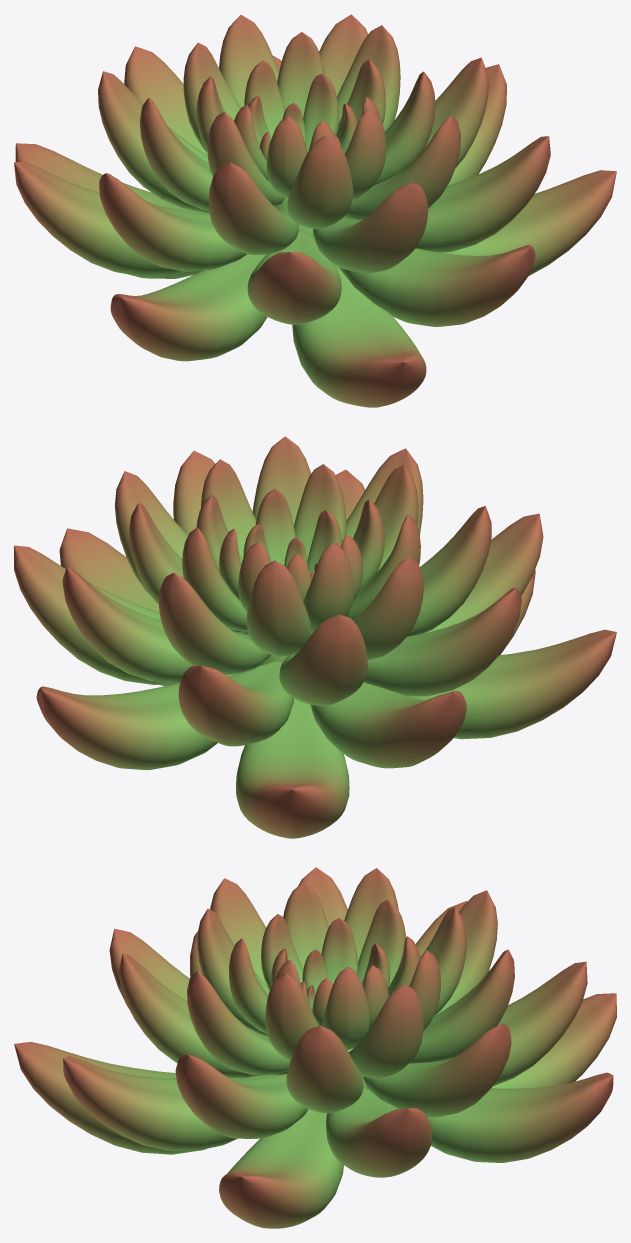
Rendered from stylized_succulent_plant.glb.
The picture shows the model from 3 angles, top to bottom: view 1: azimuth 30°, elevation 25°; view 2: azimuth 150°, elevation 25°; view 3: azimuth 270°, elevation 25°; orthographic projection. The views are drawn at different scales.
Visible parts, largest first — view 1: Succulent.003; view 2: Succulent.003; view 3: Succulent.003.
Part boxes in pixels (bbox=[...]): Succulent.003: bbox=[14, 14, 616, 407]; Succulent.003: bbox=[14, 436, 616, 838]; Succulent.003: bbox=[14, 867, 616, 1228].
Bounding box in the file's own units: 0.175 × 0.0792 × 0.1818.
1 material, 1 textured.
